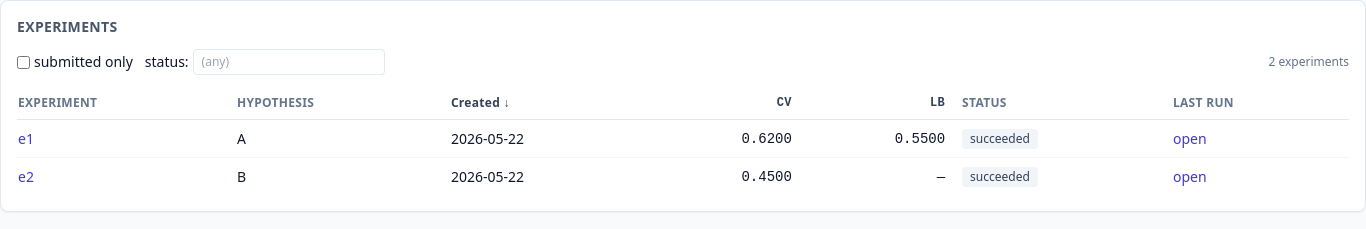
Test: Experiments › renders the columns and sorts by CV when clicked
expect the text "2 experiments" is shown: met, box x1=1268 y1=54 x2=1349 y2=70
expect the column heading "Hypothesis" is shown: met, box x1=236 y1=87 x2=450 y2=120
Note: Click CV header twice to flip to ascending (then descending again).
Click the button "CV" at (784, 103), box x1=777 y1=95 x2=792 y2=111
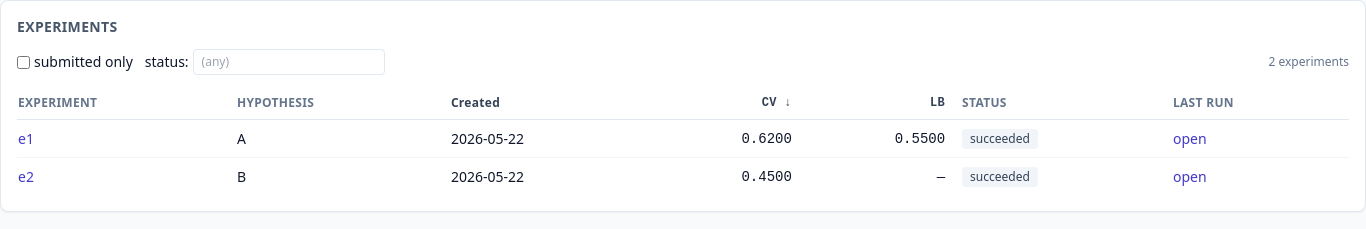
Click the button "CV ↓" at (777, 103), box x1=762 y1=95 x2=792 y2=111
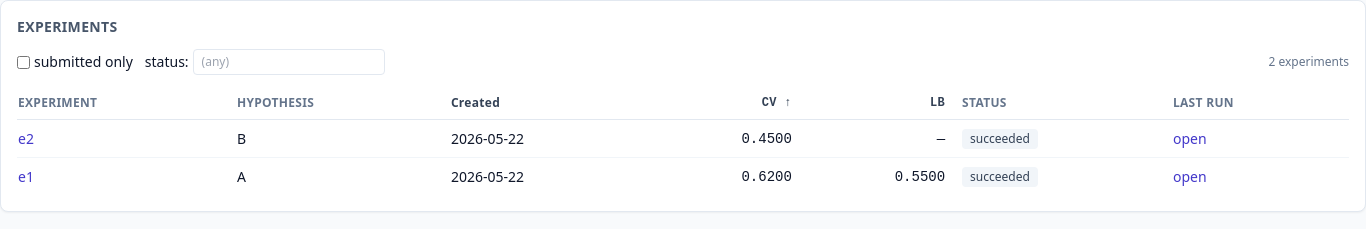
expect the row "e2 B 2026-05-22 0.4500 — succeeded open" is shown: met, box x1=17 y1=120 x2=1349 y2=158
expect the row "e1 A 2026-05-22 0.6200 0.5500 succeeded open" is shown: met, box x1=17 y1=158 x2=1349 y2=195
